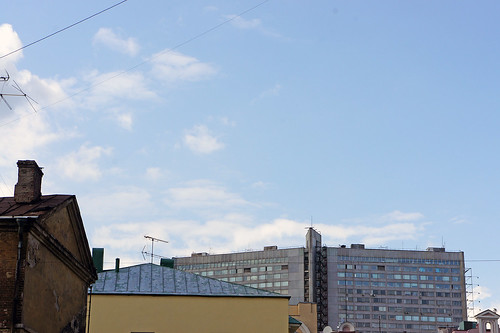building: (86, 248, 302, 333), (1, 184, 102, 333), (313, 244, 461, 333)
sky: (1, 1, 500, 237)
